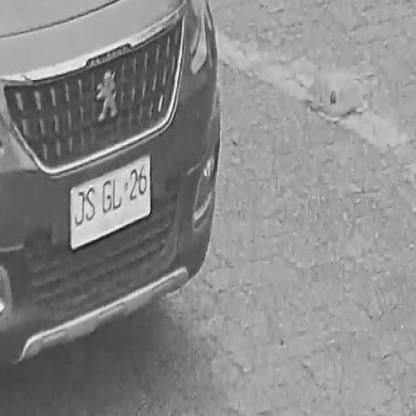Patente: (70, 154, 154, 255)
